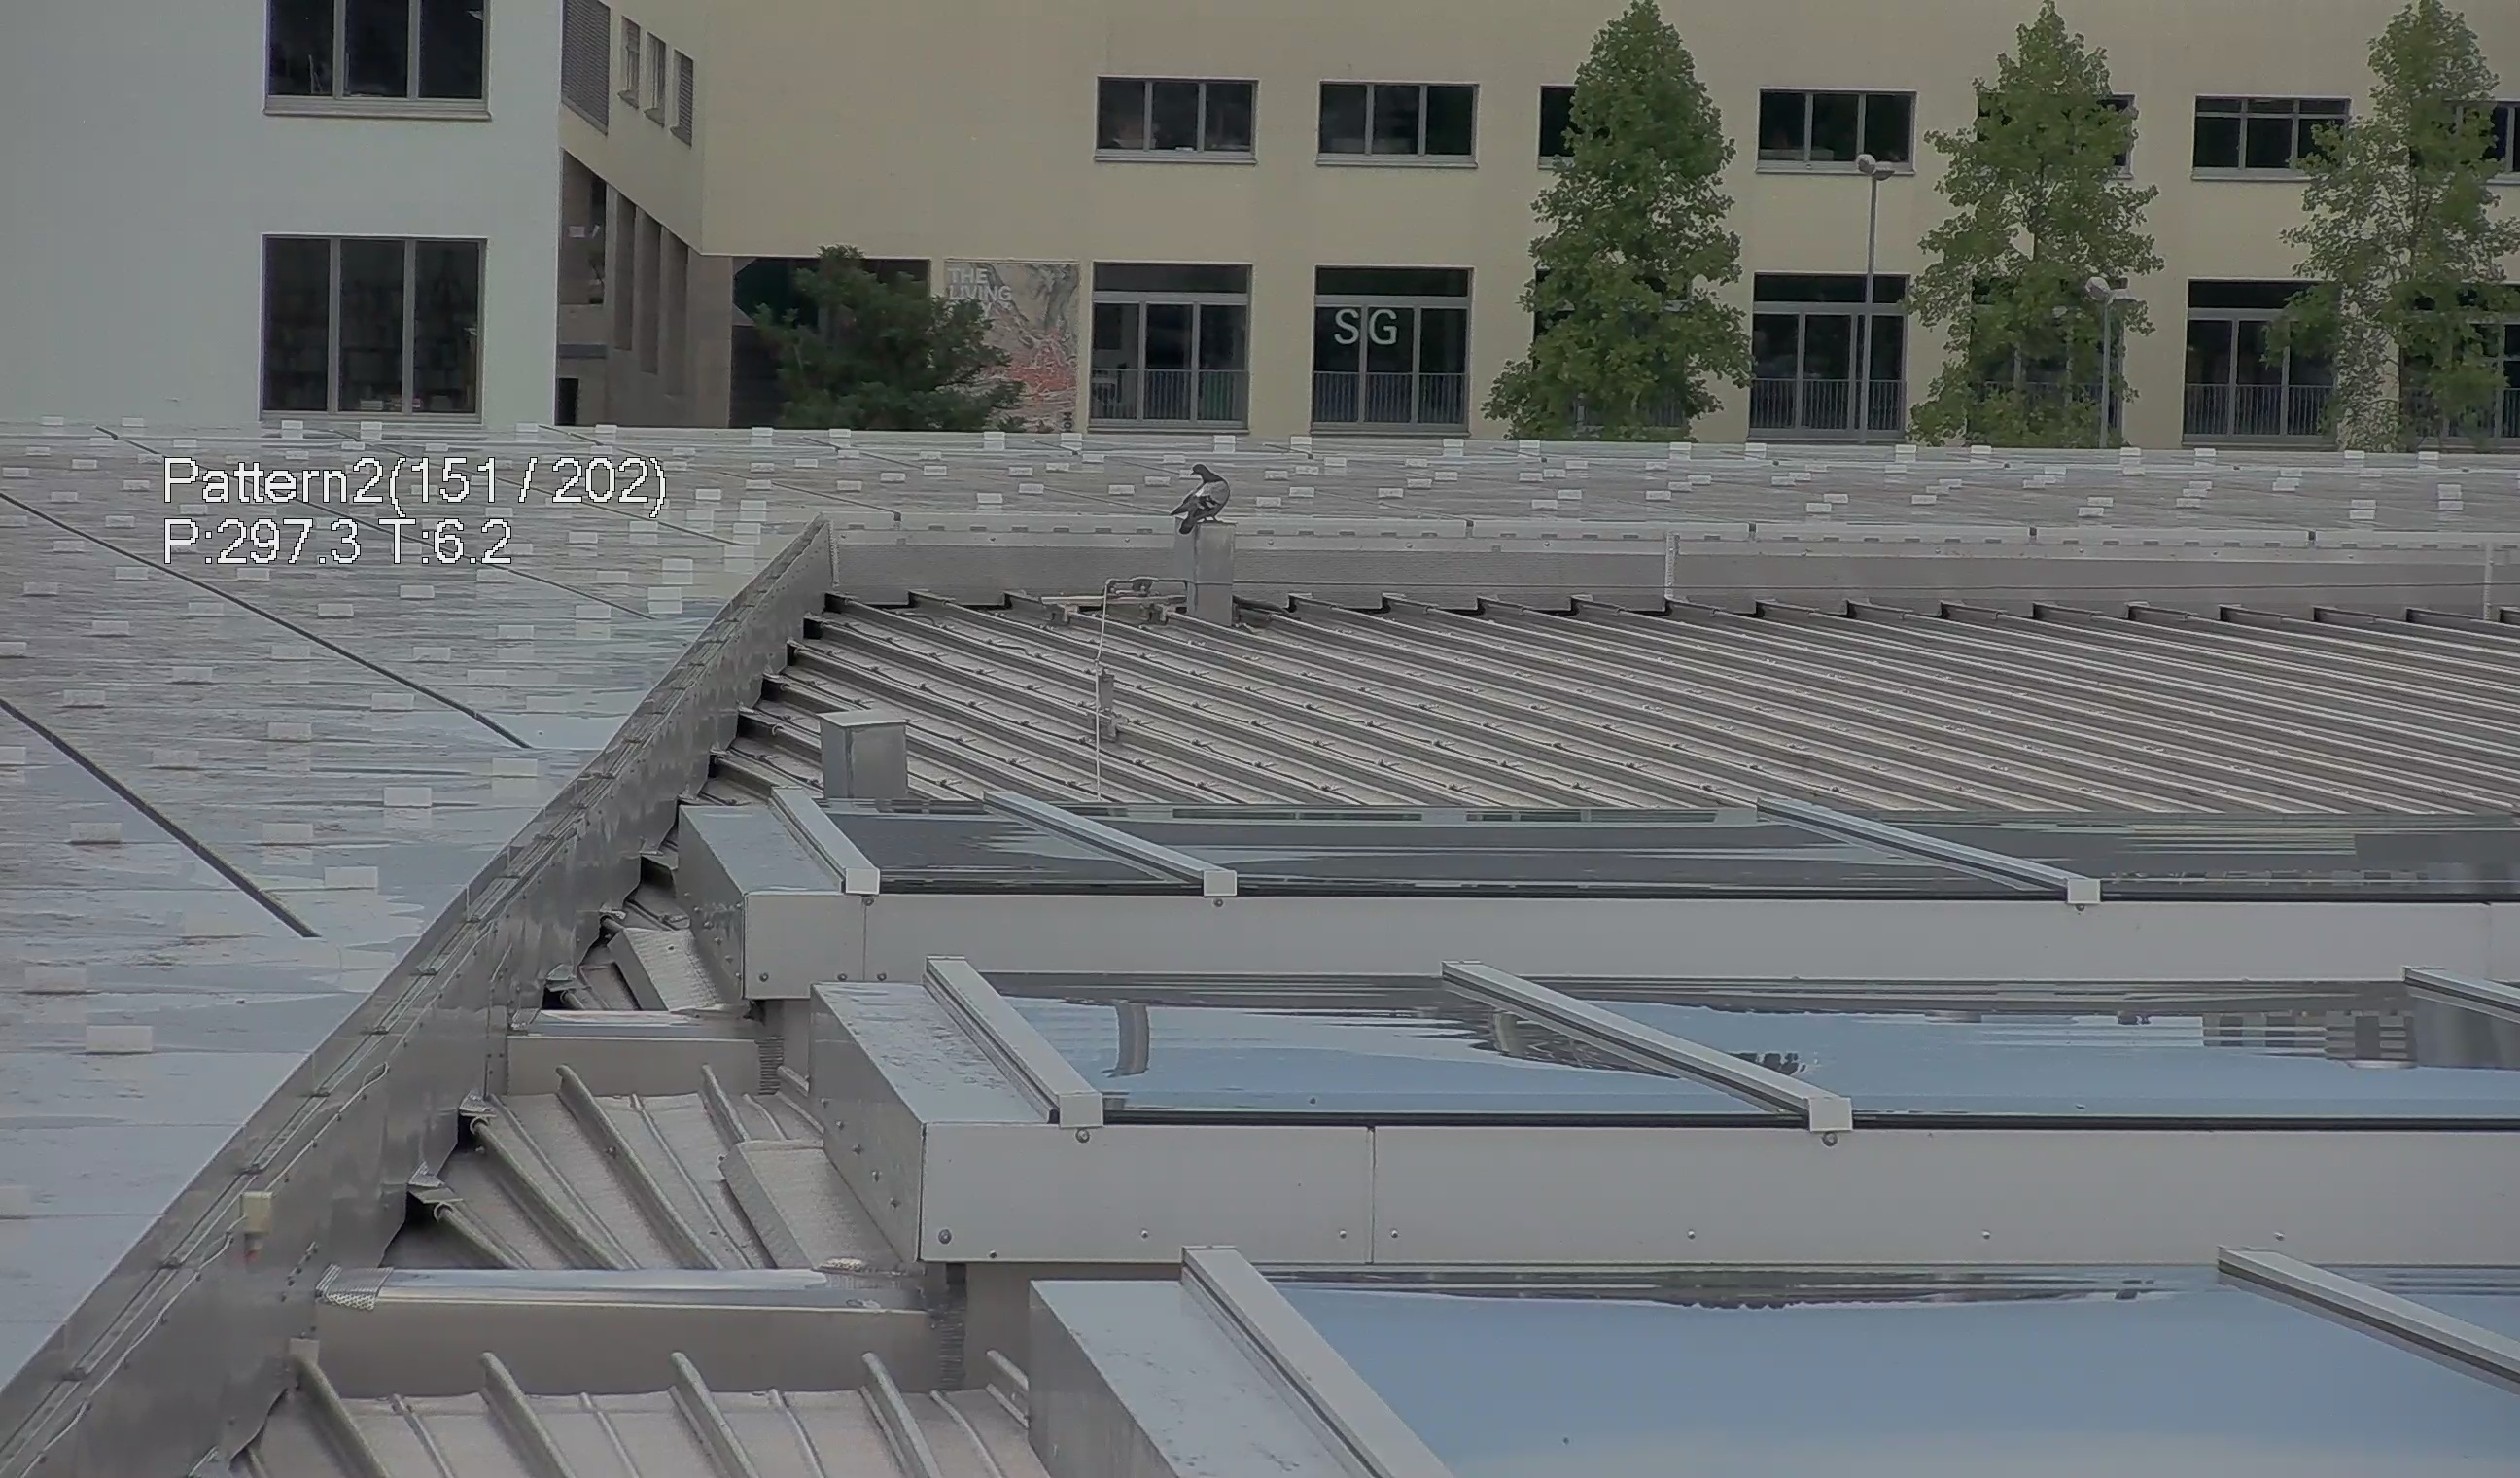Pigeon: (1161, 445, 1240, 535)
